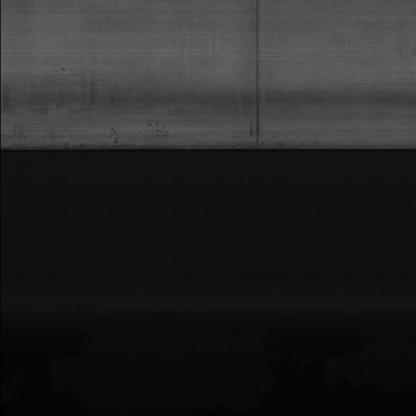crease: (242, 0, 271, 148)
